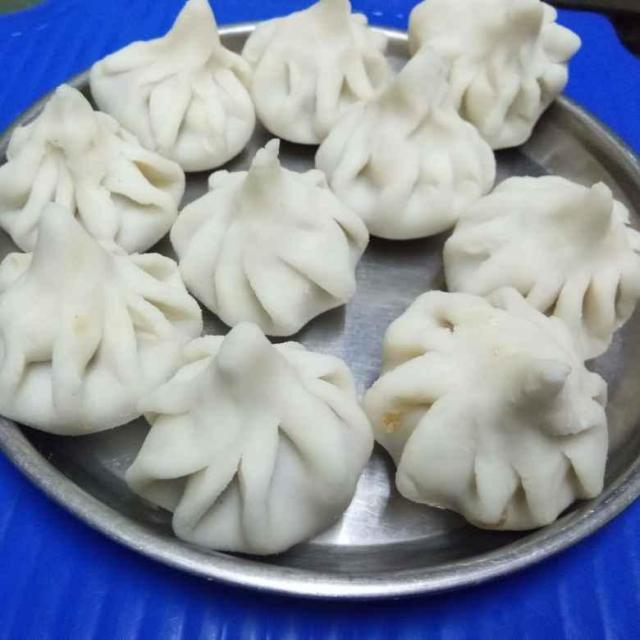modak: (119, 284, 380, 592), (353, 262, 624, 546), (164, 142, 369, 343), (3, 232, 183, 425), (312, 60, 500, 239), (459, 174, 640, 357), (0, 77, 169, 245), (404, 0, 586, 153), (83, 0, 260, 144), (246, 3, 403, 141)
